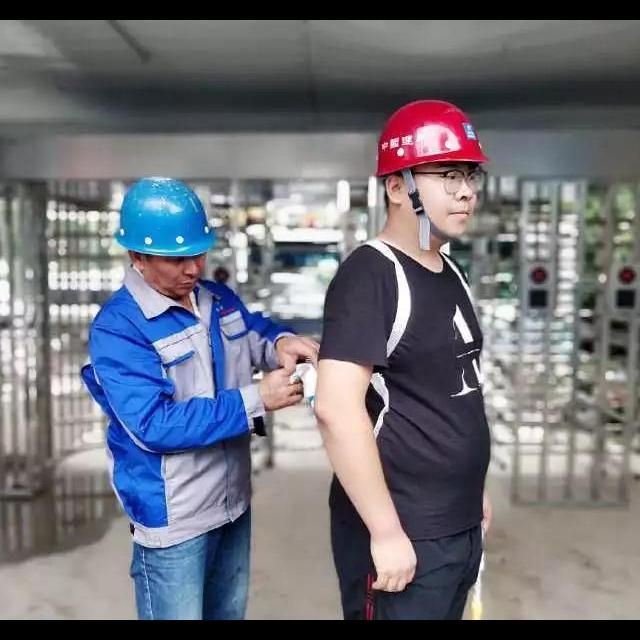Hardhat: (113, 178, 225, 259), (370, 99, 489, 168)
NO-Mask: (433, 204, 475, 237), (158, 275, 197, 298)
NO-Safety Vest: (342, 243, 489, 538), (101, 287, 257, 527)
Person: (85, 173, 321, 620), (310, 96, 491, 620)
